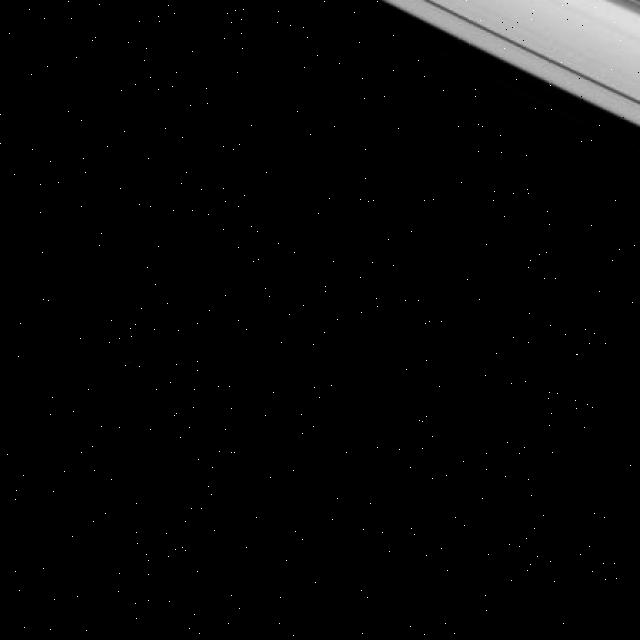Saturn: (189, 0, 640, 190)
